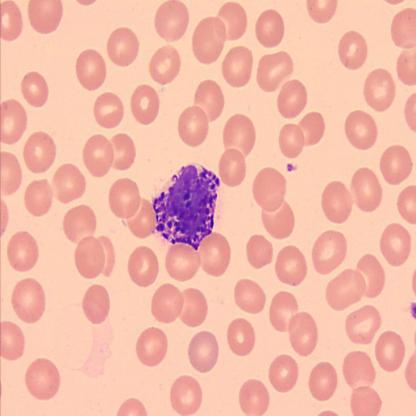Basophil: (151, 163, 222, 255)
